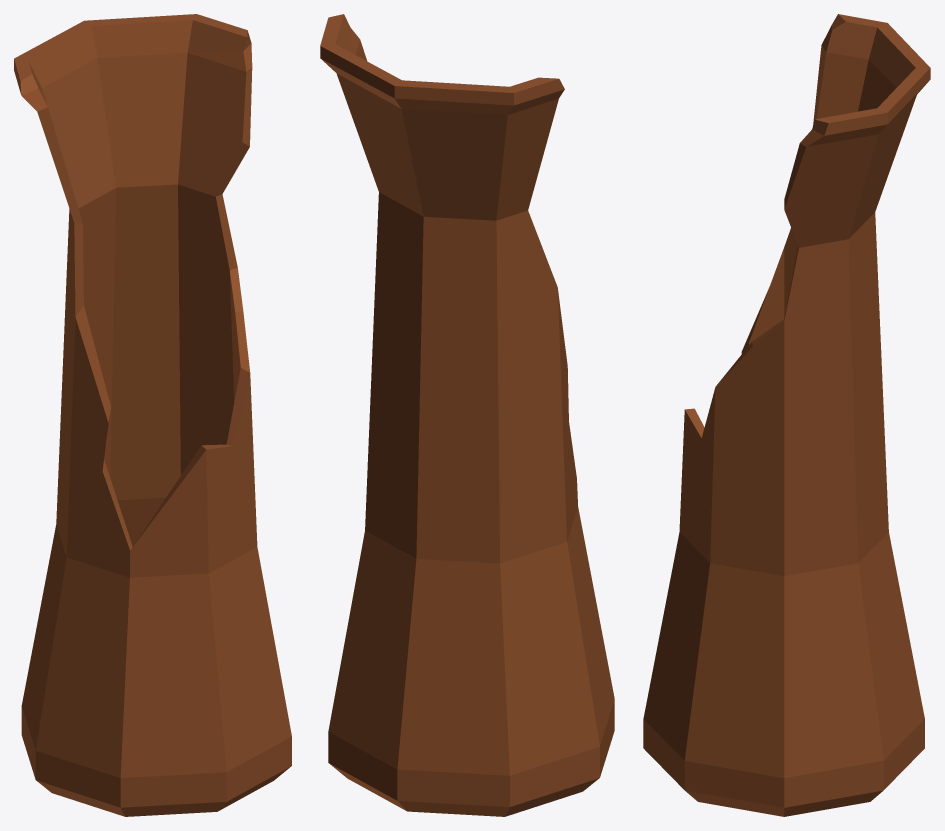
File: Collin_BrokenVase_004_Body.fbx
3 renders of one model, left to right at view 1: azimuth 30°, elevation 25°; view 2: azimuth 150°, elevation 25°; view 3: azimuth 270°, elevation 25°, orthographic. The views are drawn at different scales.
Visible parts, largest first — view 1: Broken_Vase_002; view 2: Broken_Vase_002; view 3: Broken_Vase_002.
Boxes of the visible parts, bbox=[...] form: Broken_Vase_002: bbox=[14, 14, 291, 816]; Broken_Vase_002: bbox=[320, 14, 614, 816]; Broken_Vase_002: bbox=[643, 14, 930, 816].
Size of the model in its own units: 17.01 by 46.53 by 17.35.
1 material, 1 textured.
